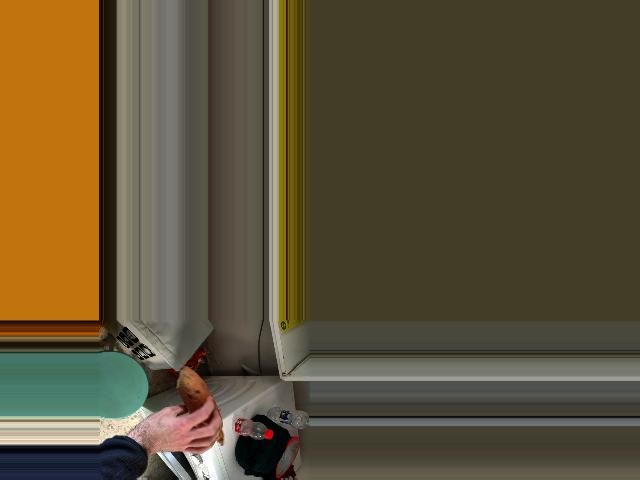sweet_potato: (177, 369, 224, 449)
